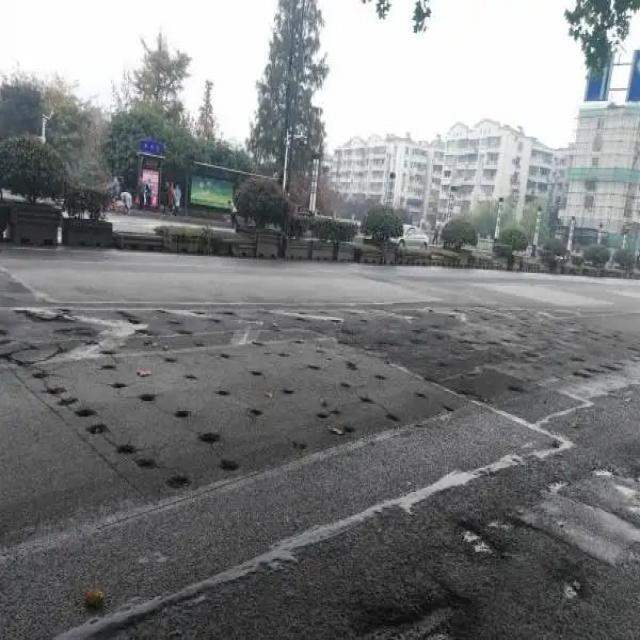pothole: (303, 303, 492, 427), (461, 519, 503, 565), (550, 573, 596, 609), (164, 471, 189, 493), (193, 428, 223, 445), (209, 378, 231, 400), (135, 456, 156, 478), (133, 385, 154, 407), (283, 437, 310, 454), (170, 406, 193, 424), (503, 381, 521, 403), (238, 403, 264, 417), (569, 372, 594, 386), (222, 457, 241, 475), (110, 438, 134, 451), (84, 421, 105, 434), (158, 351, 177, 364), (182, 369, 199, 382), (46, 386, 67, 396), (96, 360, 115, 370), (75, 408, 93, 418), (134, 327, 152, 337), (30, 368, 49, 377), (109, 377, 125, 387), (99, 348, 115, 356), (60, 397, 75, 405), (86, 339, 102, 346), (141, 339, 155, 347)
